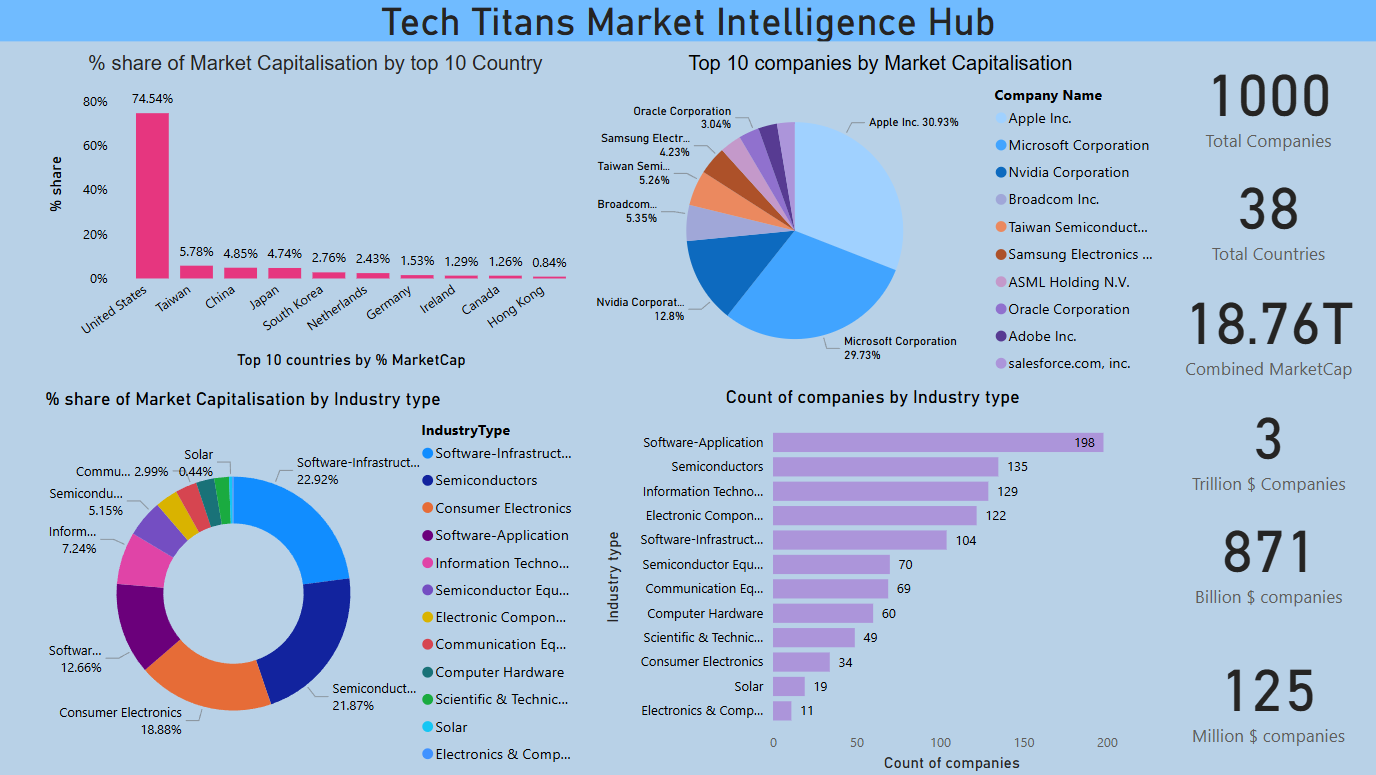

Layout of this report page (visuals, bound fields, positions):
{"tool":"powerbi","page":{"name":"Tech_Analysis","canvas":[1280,720],"ordinal":0},"visuals":[{"type":"clusteredColumnChart","title":"% share of Market Capitalisation by top 10  Country","fields":{"Category":["top_1000_technology_companies.CountryName"],"Y":["Sum(top_1000_technology_companies.MarketCapConverted)"]},"box":[39.5,49,508.1,298.3],"z":0},{"type":"donutChart","title":"% share of Market Capitalisation by Industry type","fields":{"Category":["top_1000_technology_companies.IndustryType"],"Y":["Sum(top_1000_technology_companies.MarketCapConverted)"]},"box":[39,360.3,508.4,360.3],"z":1000},{"type":"pieChart","title":"Top 10 companies by Market Capitalisation","fields":{"Category":["top_1000_technology_companies.CompanyName"],"Y":["Sum(top_1000_technology_companies.MarketCapConverted)"]},"box":[547.6,49,539.4,310.6],"z":2000},{"type":"barChart","fields":{"Category":["top_1000_technology_companies.IndustryType"],"Y":["CountNonNull(top_1000_technology_companies.CompanyName)"]},"box":[557.1,359.6,508.1,361],"z":3000},{"type":"card","fields":{"Values":["Count(top_1000_technology_companies.Ranking)"]},"box":[1074.8,39.1,205.2,107.5],"z":4000},{"type":"card","fields":{"Values":["Count(top_1000_technology_companies.CountryName)"]},"box":[1074.8,146.6,205.2,102.6],"z":5000},{"type":"card","fields":{"Values":["Sum(top_1000_technology_companies.MarketCapConverted)"]},"box":[1074.7,249.3,205.7,110.3],"z":6000},{"type":"card","fields":{"Values":["CountNonNull(top_1000_technology_companies.MarketCapConverted)"]},"box":[1074.7,359.6,205.7,103.5],"z":7000},{"type":"card","fields":{"Values":["CountNonNull(top_1000_technology_companies.MarketCapConverted)"]},"box":[1074.7,463.1,205.7,104.9],"z":8000},{"type":"card","fields":{"Values":["CountNonNull(top_1000_technology_companies.MarketCapConverted)"]},"box":[1075,568,205,152],"z":9000},{"type":"textbox","title":"Tech Titans Market Intelligence Hub","box":[0,0,1279.1,39.5],"z":10000}]}

Visuals, with their boxes in screenshot pixels (x1, y1, x2, y2), scaled from the page's 1280x720 canvas onto the 1376x775 screenshot:
"% share of Market Capitalisation by top 10  Country" clusteredColumnChart: x1=42 y1=53 x2=589 y2=374
"% share of Market Capitalisation by Industry type" donutChart: x1=42 y1=388 x2=588 y2=774
"Top 10 companies by Market Capitalisation" pieChart: x1=589 y1=53 x2=1169 y2=387
barChart - top_1000_technology_companies.IndustryType x CountNonNull(top_1000_technology_companies.CompanyName): x1=599 y1=387 x2=1145 y2=774
card - Count(top_1000_technology_companies.Ranking): x1=1155 y1=42 x2=1375 y2=158
card - Count(top_1000_technology_companies.CountryName): x1=1155 y1=158 x2=1375 y2=268
card - Sum(top_1000_technology_companies.MarketCapConverted): x1=1155 y1=268 x2=1375 y2=387
card - CountNonNull(top_1000_technology_companies.MarketCapConverted): x1=1155 y1=387 x2=1375 y2=498
card - CountNonNull(top_1000_technology_companies.MarketCapConverted): x1=1155 y1=498 x2=1375 y2=611
card - CountNonNull(top_1000_technology_companies.MarketCapConverted): x1=1156 y1=611 x2=1375 y2=774
"Tech Titans Market Intelligence Hub" textbox: x1=0 y1=0 x2=1375 y2=43
